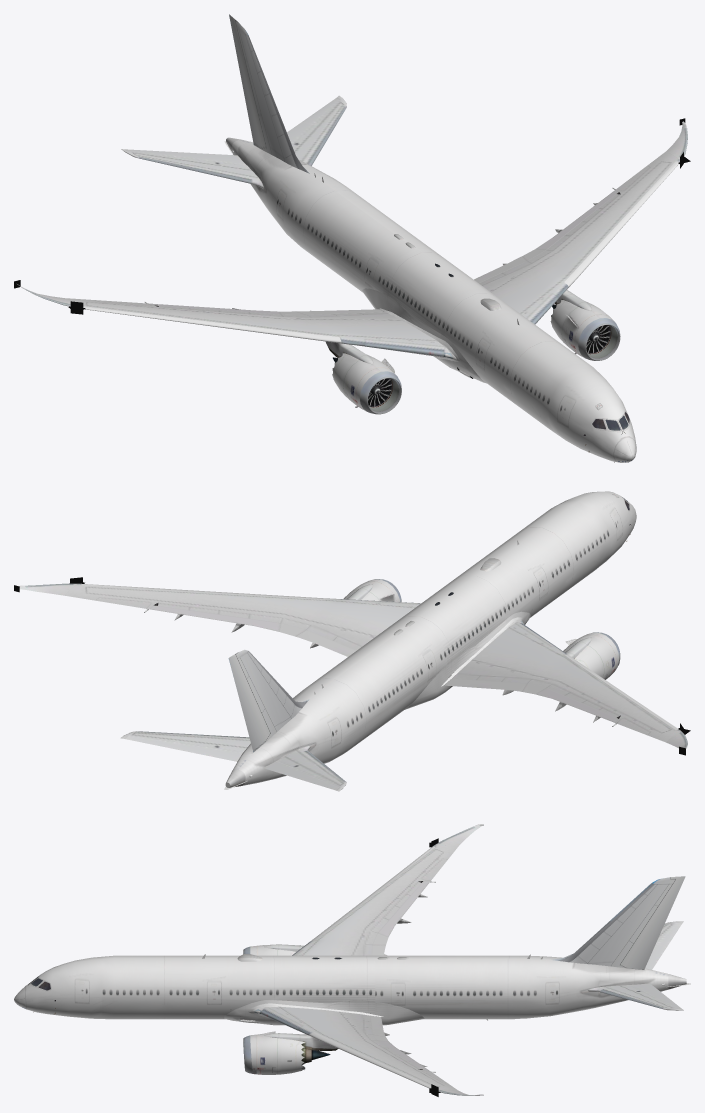
File: boeing_787-9.glb
The picture shows the model from 3 angles, top to bottom: view 1: azimuth 30°, elevation 25°; view 2: azimuth 150°, elevation 25°; view 3: azimuth 270°, elevation 25°; orthographic projection. The views are drawn at different scales.
Visible parts, largest first — view 1: Object_45_Material.001_0, Object_27_Material.006_0, Object_35_Material.002_0, Object_33_Material.003_0, Object_13_Material.007_0, Object_37_material09_0, Object_39_material09_0, Object_43_Material.008_0; view 2: Object_45_Material.001_0, Object_27_Material.006_0, Object_35_Material.002_0, Object_33_Material.003_0, Object_13_Material.007_0, Object_39_material09_0; view 3: Object_45_Material.001_0, Object_27_Material.006_0, Object_33_Material.003_0, Object_13_Material.007_0, Object_35_Material.002_0, Object_39_material09_0.
Part boxes in pixels (x1,y1,x2,y2): Object_45_Material.001_0: (17,14,687,461); Object_27_Material.006_0: (438,291,599,435); Object_35_Material.002_0: (483,151,679,318); Object_33_Material.003_0: (65,298,450,358); Object_13_Material.007_0: (548,370,636,462); Object_37_material09_0: (83,306,341,343); Object_39_material09_0: (564,161,679,287); Object_43_Material.008_0: (369,325,625,462); Object_45_Material.001_0: (19,494,687,791); Object_27_Material.006_0: (452,501,610,626); Object_35_Material.002_0: (64,583,419,645); Object_33_Material.003_0: (458,621,680,742); Object_13_Material.007_0: (560,491,636,565); Object_39_material09_0: (81,583,340,599); Object_45_Material.001_0: (16,824,686,1095); Object_27_Material.006_0: (101,955,278,1023); Object_33_Material.003_0: (296,845,458,955); Object_13_Material.007_0: (14,957,101,1018); Object_35_Material.002_0: (258,1006,457,1090); Object_39_material09_0: (309,1032,431,1088).
Bounding box in the file's own units: 60.21 × 15.72 × 63.16.
Materials: 18 (9 with a texture image).
